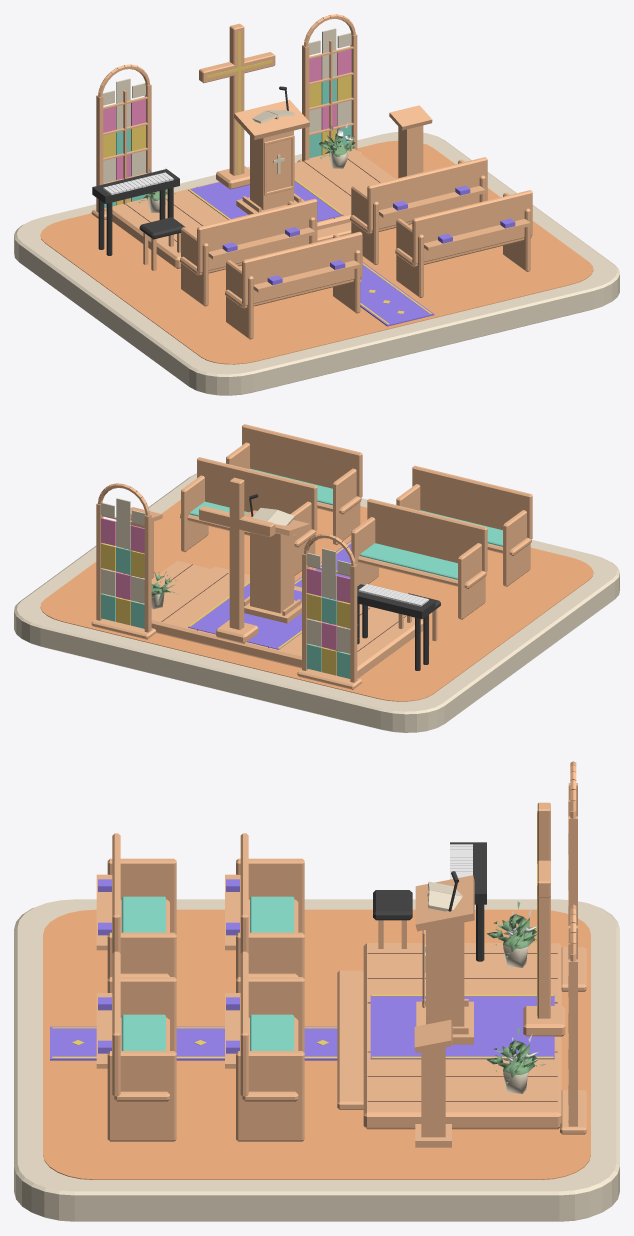
The model's file is room.fbx.
The picture shows the model from 3 angles, top to bottom: view 1: azimuth 30°, elevation 25°; view 2: azimuth 150°, elevation 25°; view 3: azimuth 270°, elevation 25°; orthographic projection. The views are drawn at different scales.
Visible parts, largest first — view 1: COM-02 Floor Surface, COM-01 Rounded Base Direct, Sanctuary platform, Back.002, Back.003, Back, Back.001, Body, Aisle runner, Cross upright.001, Stage carpet, Reading top (+20 smaller); view 2: COM-02 Floor Surface, COM-01 Rounded Base Direct, Sanctuary platform, Back.003, Back.002, Back, Back.001, Body, Cross upright.001, Stage carpet, Seat cushion, End panel.005 (+23 smaller); view 3: COM-02 Floor Surface, COM-01 Rounded Base Direct, Sanctuary platform, Stage carpet, End panel.006, End panel.002, Aisle runner, Body, Entry step, End panel.004, End panel, End panel.005 (+31 smaller).
Part boxes in pixels (x1,y1,x2,y2): COM-02 Floor Surface: (40, 140, 593, 364); COM-01 Rounded Base Direct: (14, 132, 619, 395); Sanctuary platform: (112, 148, 395, 268); Back.002: (242, 231, 362, 305); Back.003: (412, 190, 532, 264); Back: (197, 198, 317, 272); Back.001: (367, 157, 487, 231); Body: (250, 130, 293, 210); Aisle runner: (360, 262, 434, 326); Cross upright.001: (229, 23, 244, 175); Stage carpet: (188, 181, 343, 221); Reading top: (234, 100, 309, 140); COM-02 Floor Surface: (40, 500, 593, 701); COM-01 Rounded Base Direct: (14, 473, 619, 732); Sanctuary platform: (127, 560, 423, 678); Back.003: (242, 424, 362, 497); Back.002: (412, 465, 532, 539); Back: (367, 498, 487, 572); Back.001: (197, 457, 317, 530); Body: (250, 532, 293, 613); Cross upright.001: (229, 477, 244, 629); Stage carpet: (188, 583, 340, 649); Seat cushion: (359, 543, 457, 579); End panel.005: (503, 510, 530, 586); COM-02 Floor Surface: (43, 909, 590, 1179); COM-01 Rounded Base Direct: (14, 899, 619, 1221); Sanctuary platform: (363, 943, 561, 1129); Stage carpet: (370, 995, 554, 1059); End panel.006: (107, 1051, 176, 1141); End panel.002: (236, 1051, 304, 1141); Aisle runner: (50, 1026, 337, 1060); Body: (426, 922, 464, 1026); Entry step: (337, 970, 363, 1109); End panel.004: (107, 932, 176, 978); End panel: (236, 932, 304, 978); End panel.005: (107, 858, 176, 934).
Size of the model in its own units: 600 by 256 by 520.
